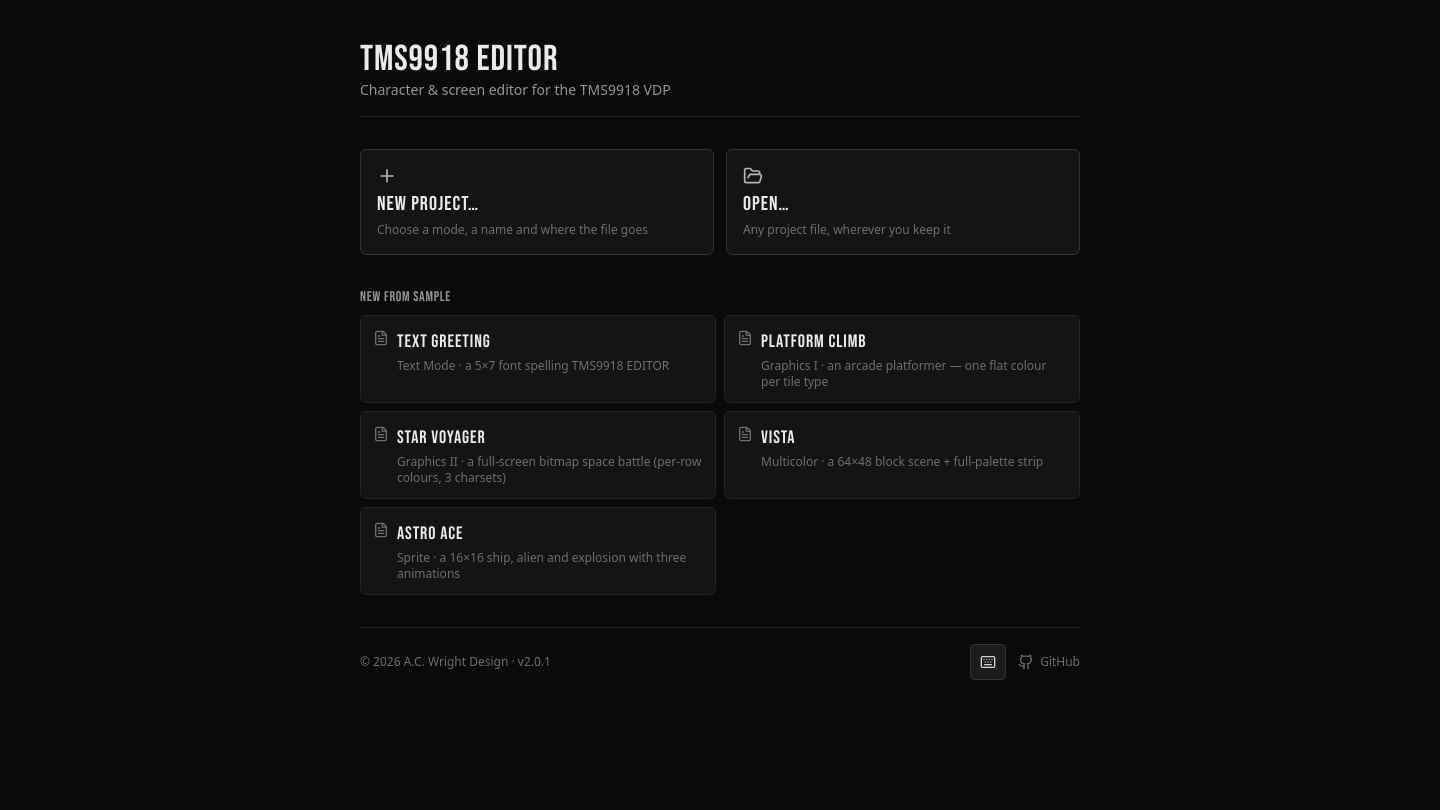
Test case: StartView › routes a sample through the same dialog, named and located
The image size is (1440, 810).
Click the button "Text Greeting Text Mode · a 5×7 font spelling TMS9918 EDITOR" at [538, 359], box [360, 315, 716, 403]
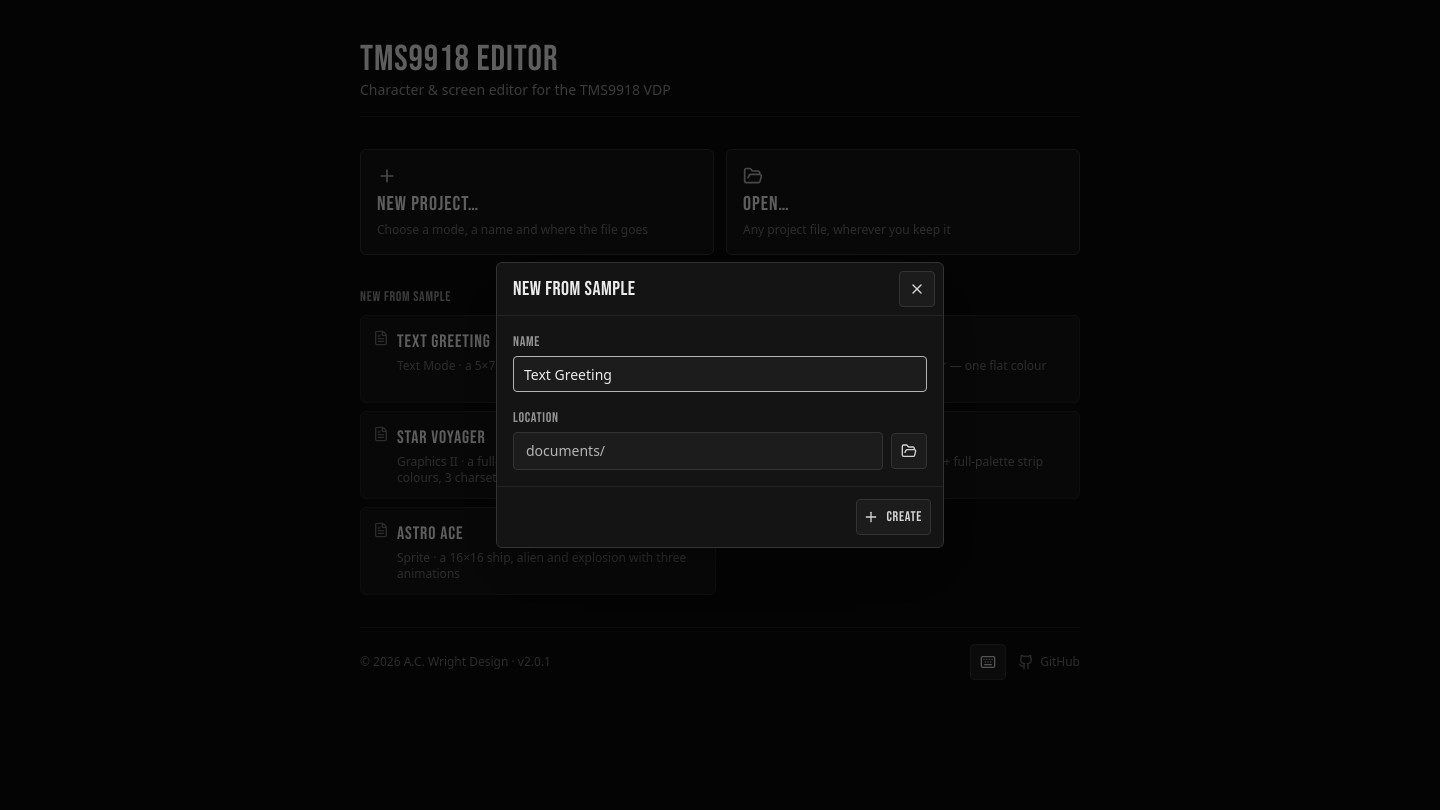
expect the text "/documents" is shown: met, box [513, 432, 883, 470]
